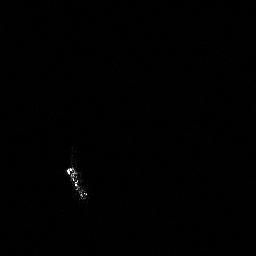ship: (63, 165, 90, 202)
